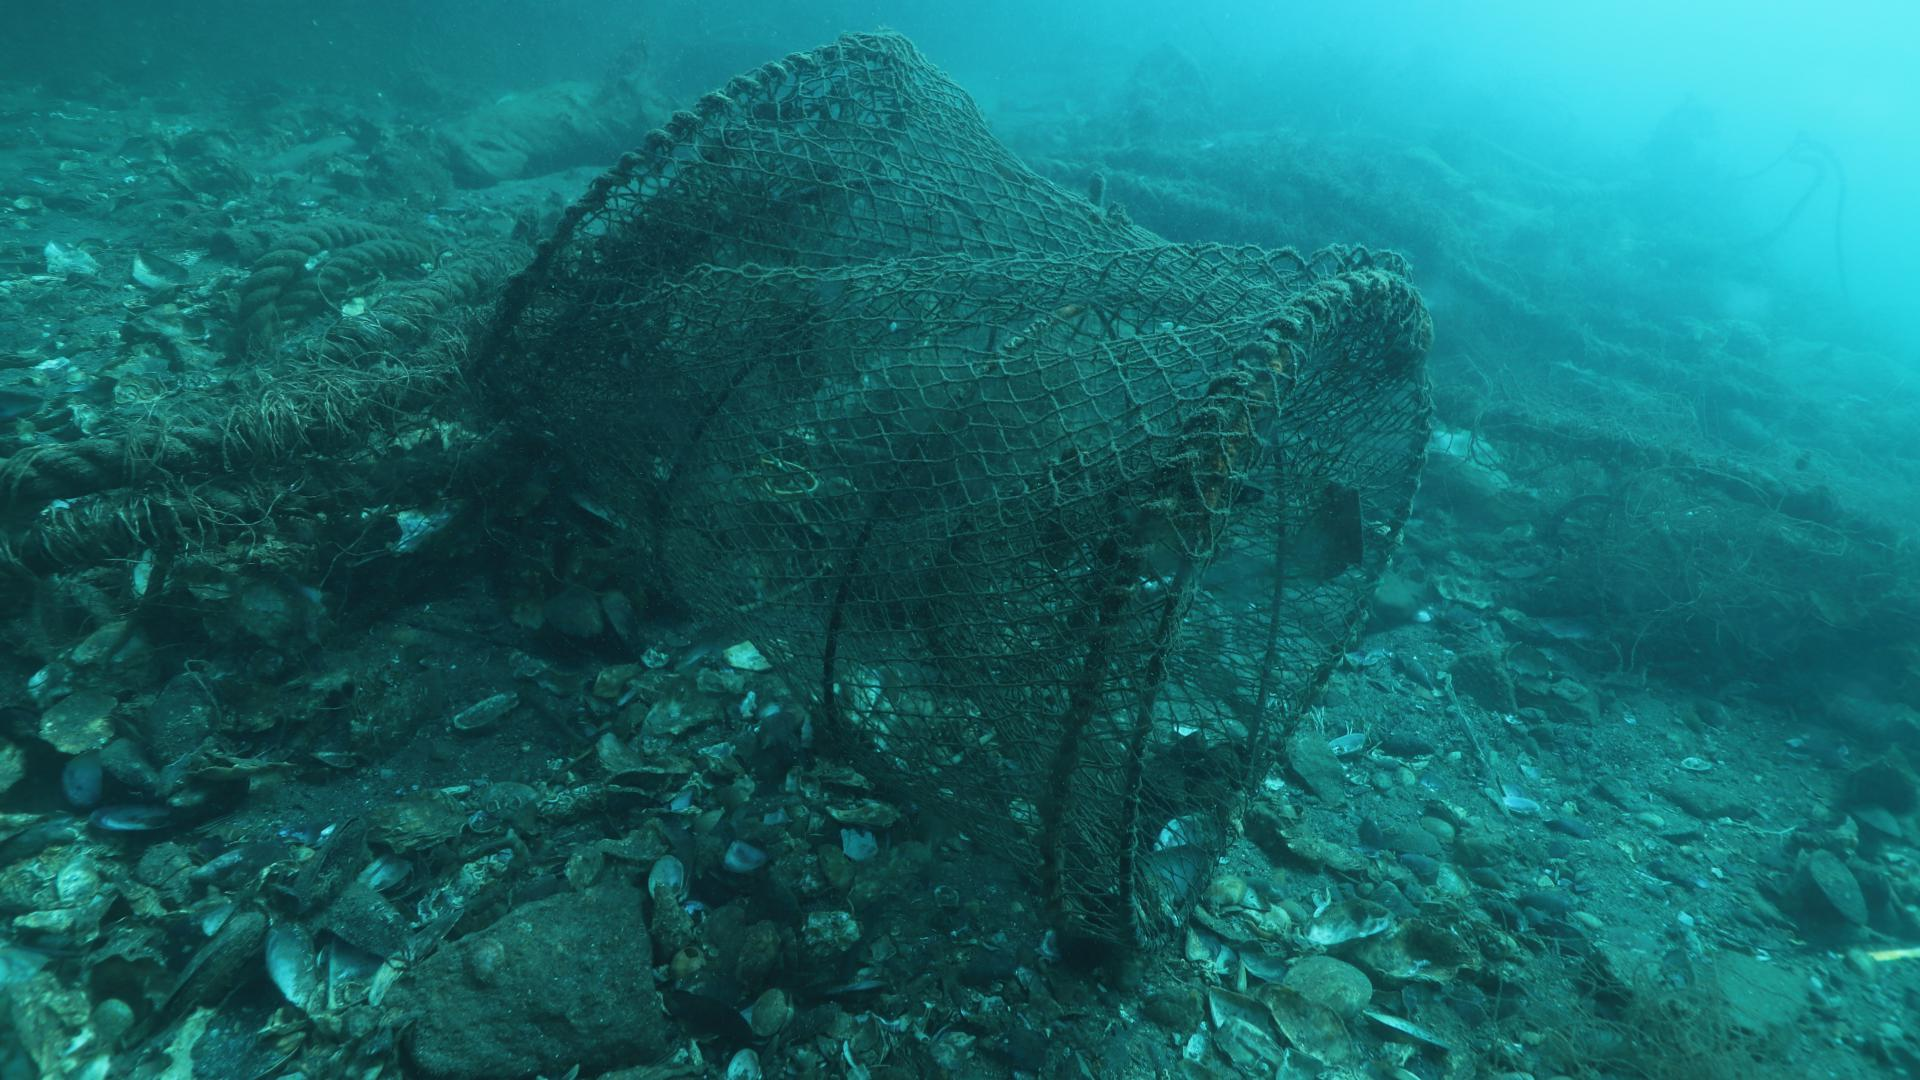bundle of ropes: (239, 216, 425, 348)
rope: (0, 421, 218, 509)
spring fish trap: (459, 30, 1439, 955)
